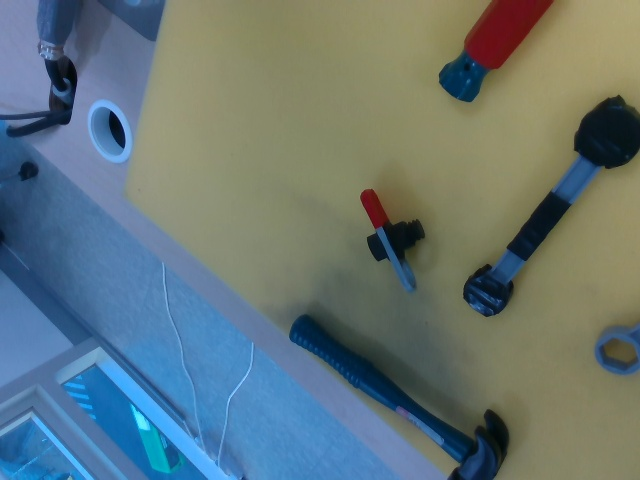part_1_good: (358, 185, 431, 295)
